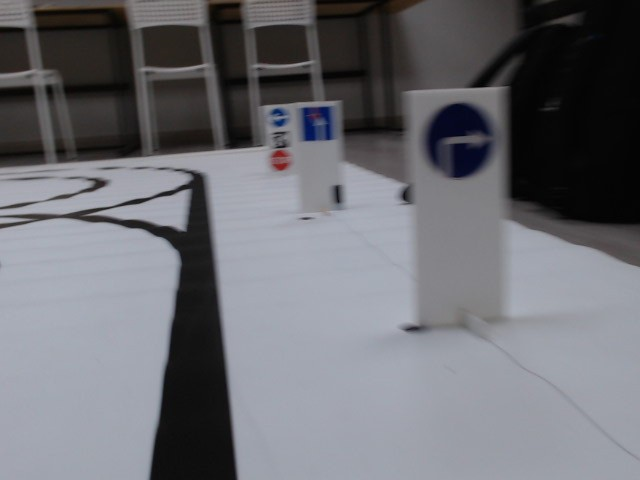Right: (419, 100, 499, 182)
Stop: (272, 151, 292, 171)
priority_movement: (297, 106, 337, 144)
